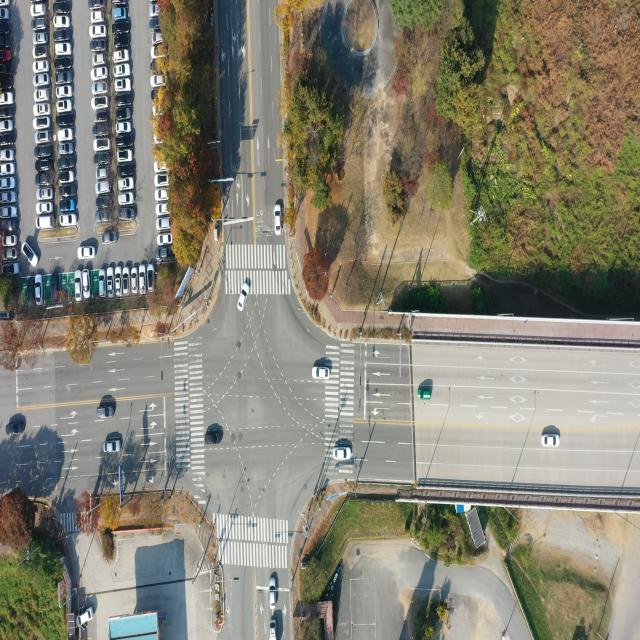car: (24, 241, 40, 267), (76, 608, 94, 631), (239, 285, 250, 313), (2, 261, 20, 278), (26, 278, 36, 308), (5, 423, 24, 437), (541, 436, 559, 450), (56, 56, 71, 72), (0, 105, 15, 120), (56, 42, 72, 56), (150, 60, 164, 76), (314, 366, 331, 379), (36, 217, 53, 230), (0, 207, 17, 220), (205, 432, 222, 445), (269, 576, 276, 607), (56, 115, 74, 127), (116, 135, 134, 147), (55, 15, 71, 28), (61, 214, 77, 227), (58, 130, 74, 143), (114, 79, 130, 92), (116, 149, 132, 162), (60, 172, 76, 185), (57, 72, 73, 85), (95, 139, 111, 152), (34, 145, 50, 158), (56, 1, 72, 14), (0, 75, 13, 91), (112, 23, 128, 36), (335, 449, 352, 461), (98, 408, 115, 420), (34, 276, 41, 305), (150, 74, 164, 88), (52, 273, 59, 301), (118, 192, 133, 205), (112, 7, 127, 20), (92, 26, 107, 39), (114, 65, 129, 78), (33, 45, 48, 58), (105, 442, 121, 454), (78, 247, 94, 259), (34, 117, 50, 129), (119, 179, 135, 191), (121, 209, 137, 221), (59, 143, 75, 155), (58, 88, 74, 100), (60, 202, 76, 214), (94, 126, 110, 138), (60, 158, 76, 170), (56, 29, 72, 41), (117, 166, 133, 178), (83, 272, 90, 299), (0, 94, 14, 107), (103, 234, 117, 247), (116, 108, 130, 121), (3, 235, 17, 248), (35, 158, 49, 171), (122, 269, 129, 295), (132, 268, 139, 294), (118, 92, 132, 105), (151, 45, 164, 59), (0, 165, 15, 177), (0, 150, 15, 162), (0, 178, 15, 190), (93, 68, 108, 80), (94, 98, 109, 110), (58, 101, 73, 113), (113, 52, 128, 64), (37, 188, 52, 200), (35, 132, 50, 144), (34, 91, 49, 103), (95, 156, 110, 168), (36, 174, 51, 186), (158, 248, 173, 260), (276, 206, 282, 236), (418, 389, 433, 401), (34, 105, 50, 116), (0, 192, 16, 203), (0, 120, 13, 133), (158, 218, 171, 231), (97, 182, 111, 194), (34, 34, 48, 46), (116, 122, 130, 134), (34, 74, 48, 86), (34, 62, 48, 74), (97, 198, 111, 210), (32, 4, 46, 16), (93, 40, 107, 52), (0, 64, 12, 78), (75, 272, 81, 300), (0, 132, 14, 144), (92, 83, 107, 94), (37, 204, 52, 215), (62, 186, 77, 197), (100, 270, 106, 297), (141, 268, 147, 295), (108, 269, 114, 296), (157, 175, 170, 187), (92, 10, 105, 22), (159, 235, 172, 247), (97, 211, 110, 223), (148, 266, 154, 292), (0, 36, 12, 49), (116, 269, 122, 295), (32, 20, 46, 31), (4, 249, 18, 260), (94, 113, 108, 124), (0, 22, 10, 37), (158, 205, 170, 217), (157, 189, 169, 201), (156, 163, 169, 174), (0, 50, 11, 63), (96, 170, 108, 181), (151, 33, 162, 45), (116, 38, 129, 48), (90, 0, 104, 9), (0, 8, 10, 20), (94, 56, 106, 66), (151, 87, 160, 100), (149, 5, 159, 16), (149, 20, 159, 31), (112, 0, 126, 6), (0, 0, 10, 7)
small_truck: (0, 218, 17, 231), (270, 618, 276, 640)
